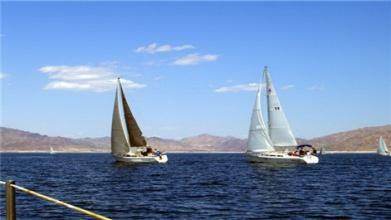fanchuan: (242, 67, 320, 163), (110, 77, 169, 164)
